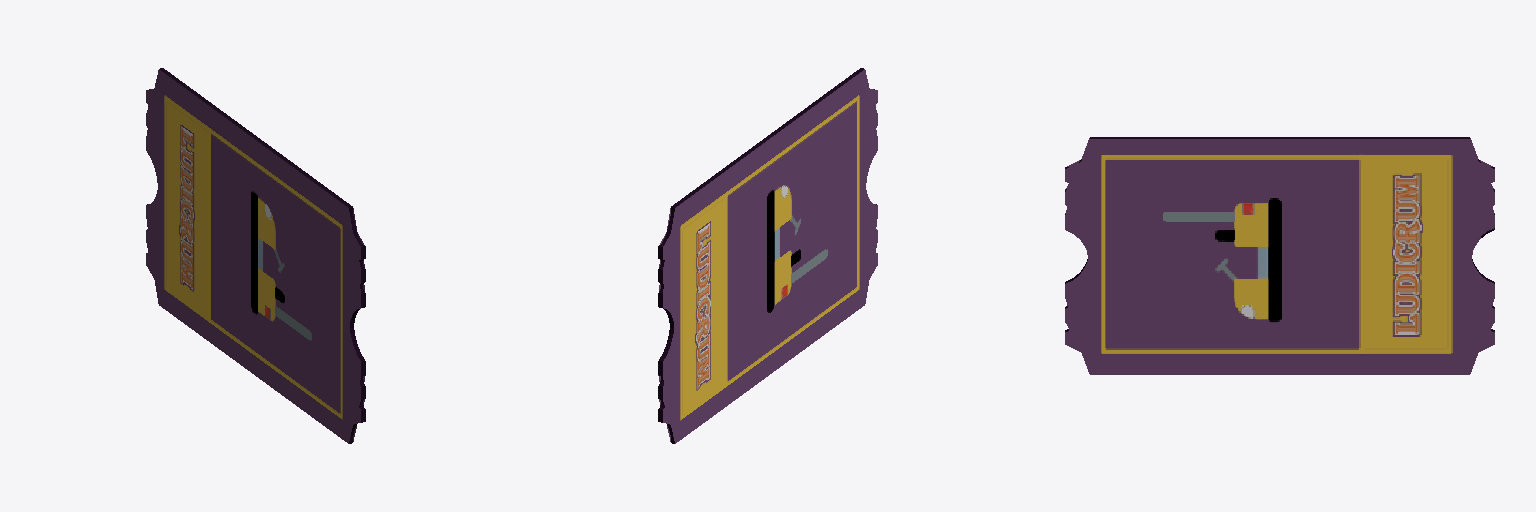
The picture shows the model from 3 angles: view 1: azimuth 30°, elevation 25°; view 2: azimuth 150°, elevation 25°; view 3: azimuth 270°, elevation 25°; orthographic projection.
Parts seen in each view (by area): view 1: pCube6; view 2: pCube6; view 3: pCube6.
Part boxes in pixels (x1,y1,x2,y2): pCube6: (146, 68, 365, 443); pCube6: (658, 68, 877, 443); pCube6: (1065, 137, 1494, 374).
Size of the model in its own units: 0.0733 by 3.78 by 6.23.
Materials: 3 (1 with a texture image).